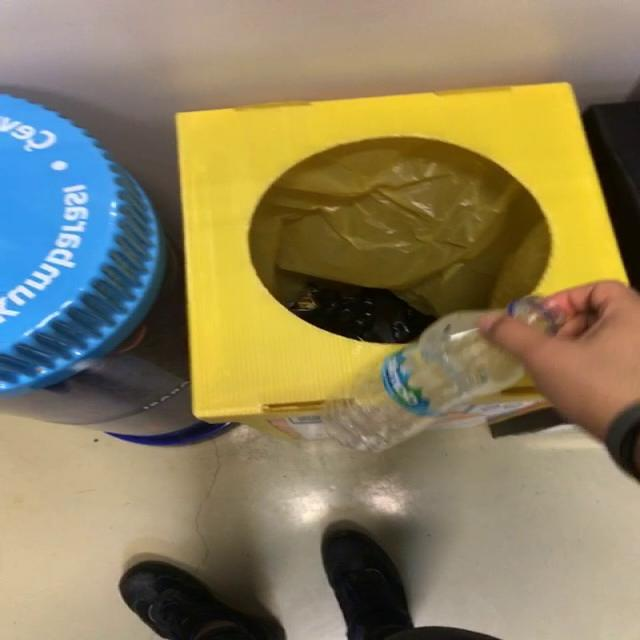plastic: (321, 311, 525, 452), (507, 296, 563, 334)
